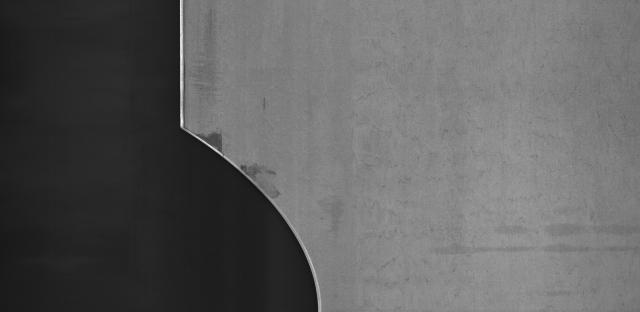crescent_gap: (172, 120, 355, 312)
